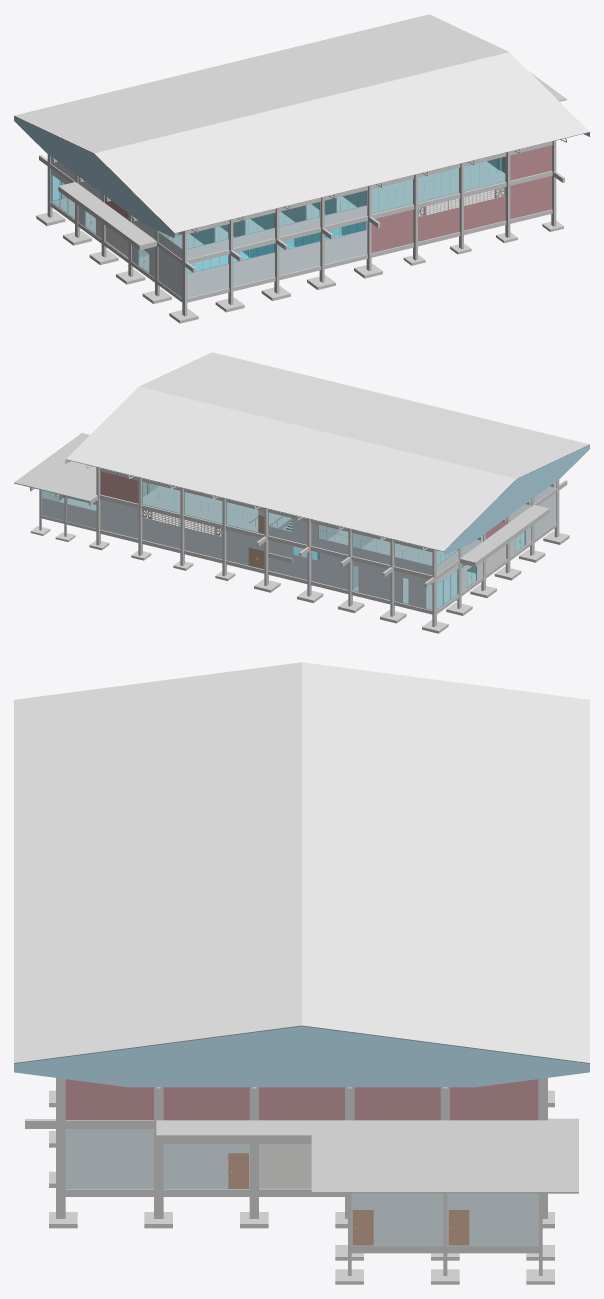
3 views of the same model, one above another, from view 1: azimuth 30°, elevation 25°; view 2: azimuth 150°, elevation 25°; view 3: azimuth 270°, elevation 25° (orthographic). The views are drawn at different scales.
Parts seen in each view (by area): view 1: EN107RF, EN10701, EN10702; view 2: EN107RF, EN10701, EN10702; view 3: EN107RF, EN10702, EN10701.
Part boxes in pixels (bbox=[...]): EN107RF: bbox=[14, 14, 589, 238]; EN10701: bbox=[36, 156, 563, 323]; EN10702: bbox=[39, 71, 566, 272]; EN107RF: bbox=[65, 352, 589, 555]; EN10701: bbox=[30, 481, 569, 633]; EN10702: bbox=[14, 433, 566, 587]; EN107RF: bbox=[14, 662, 589, 1087]; EN10702: bbox=[25, 1078, 578, 1198]; EN10701: bbox=[25, 1090, 554, 1284].
Bounding box in the file's own units: 50.79 × 12.33 × 29.68.
